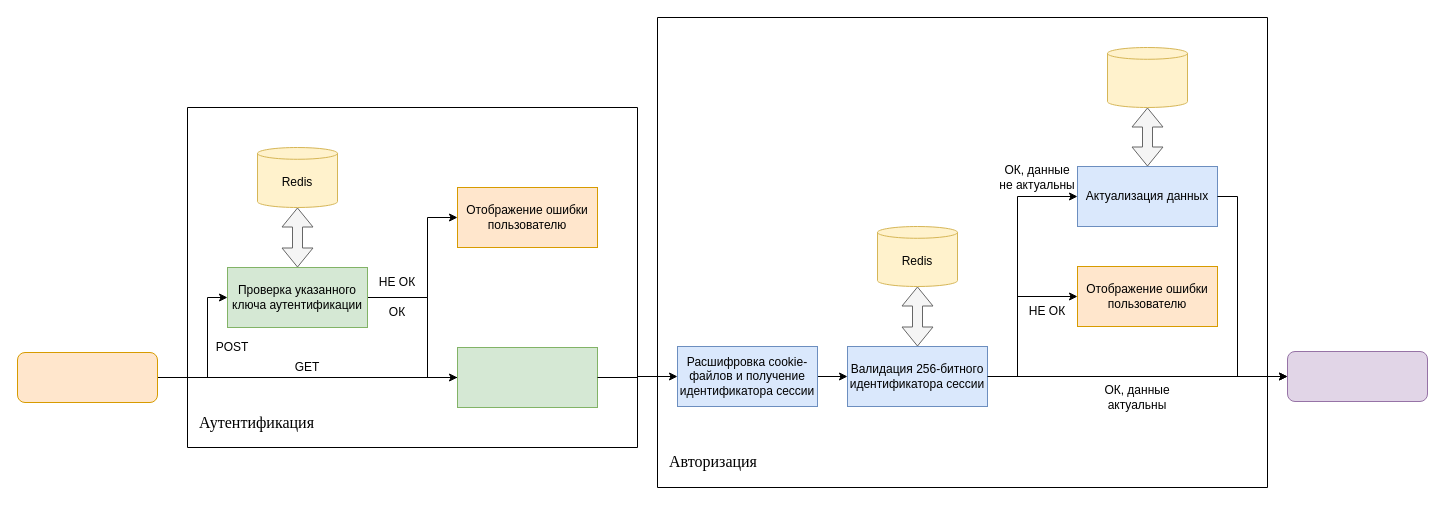
Some shapes in this 1445 by 505 pixel diagram are drawn without their labels. The shapes that lost their labels are listed below. From the top down, each one's centre as x and y in pixels, then its label:
At (1147,77): "Внутренняя база данных".
At (87,377): "HTTP-запрос".
At (527,377): "Генерация 128-битного ключа аутентификации для следующего запроса".
At (1357,376): "Обработка запроса".
